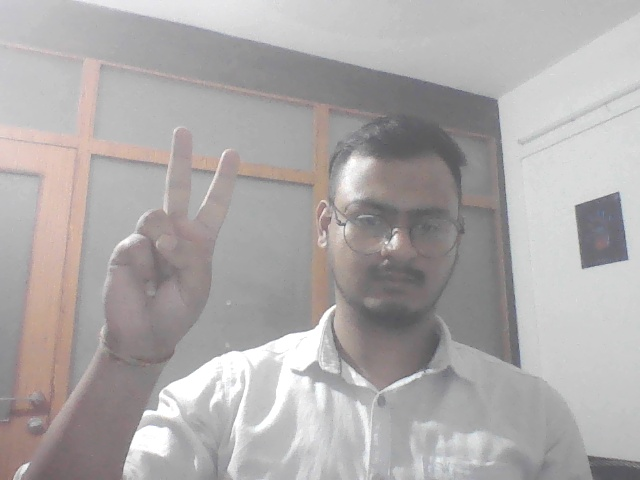Peace: (95, 119, 245, 364)
